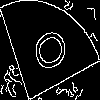O: (25, 25, 70, 79)
